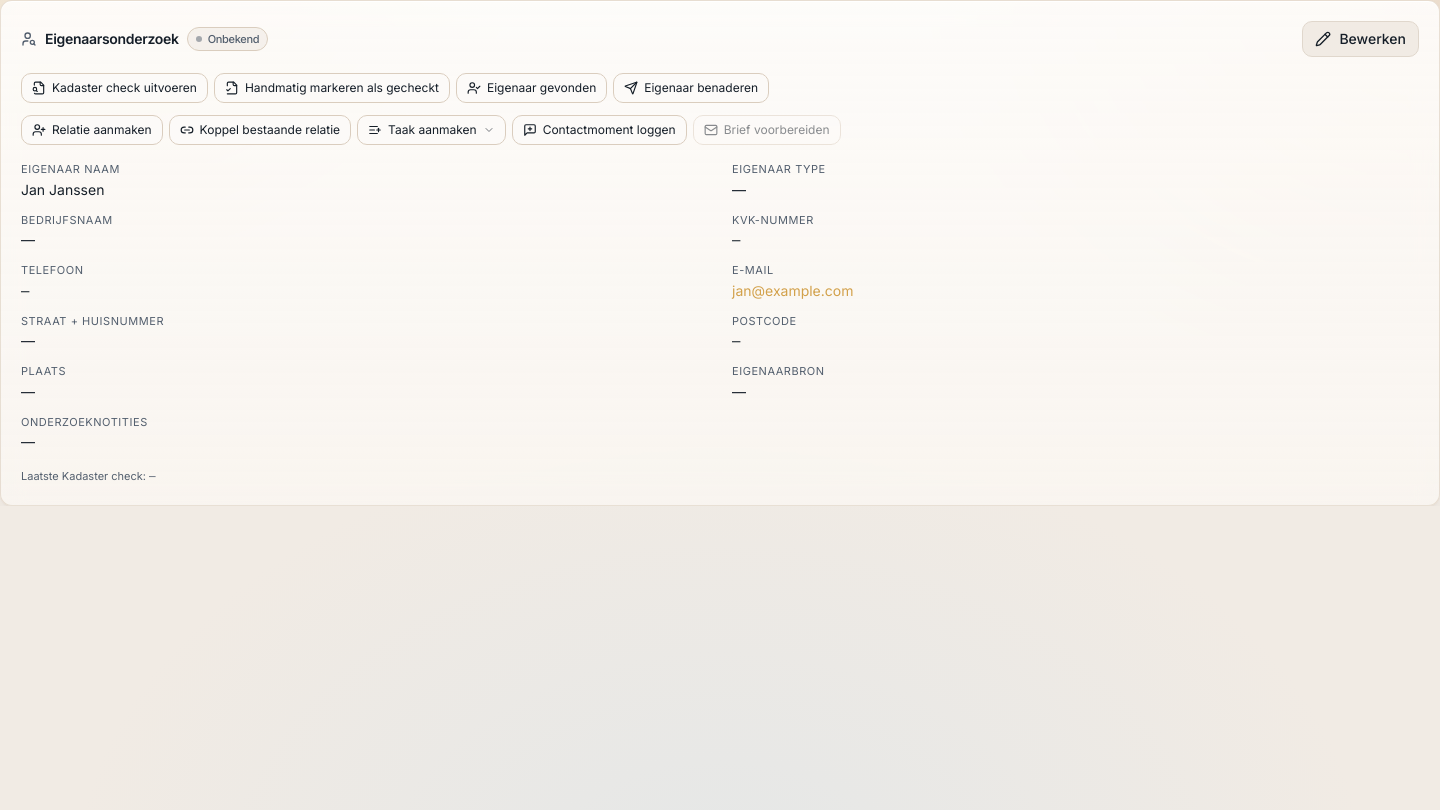
Test: SignaalEigenaarsonderzoekSectie — render & acties › bewerken → wijziging → opslaan stuurt patch
Click the button "Bewerken".
click(1361, 39)  # box [1302, 21, 1419, 57]
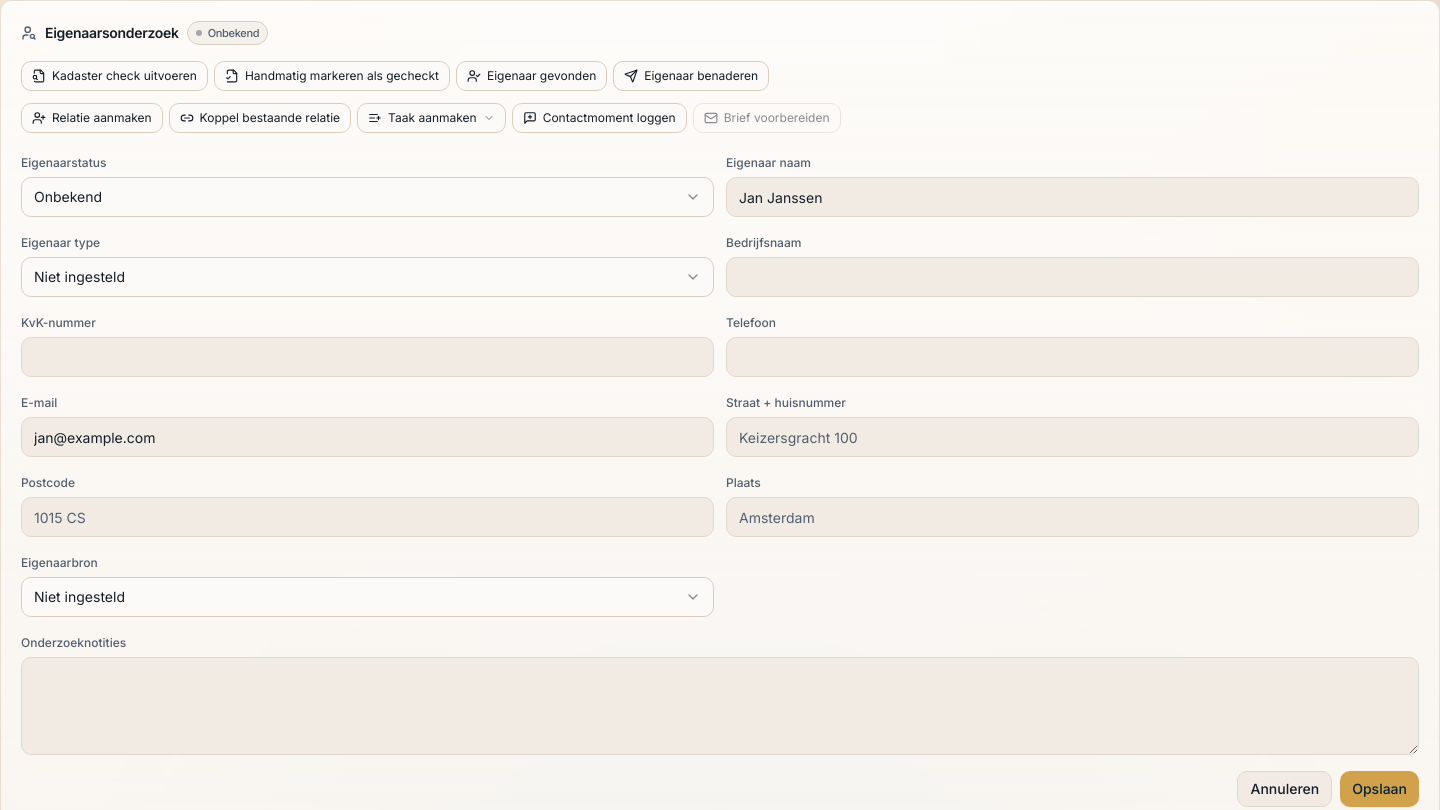
Type "0612345678" into the field below "Telefoon".
click(1072, 357); type("0612345678")  # box [726, 337, 1419, 377]
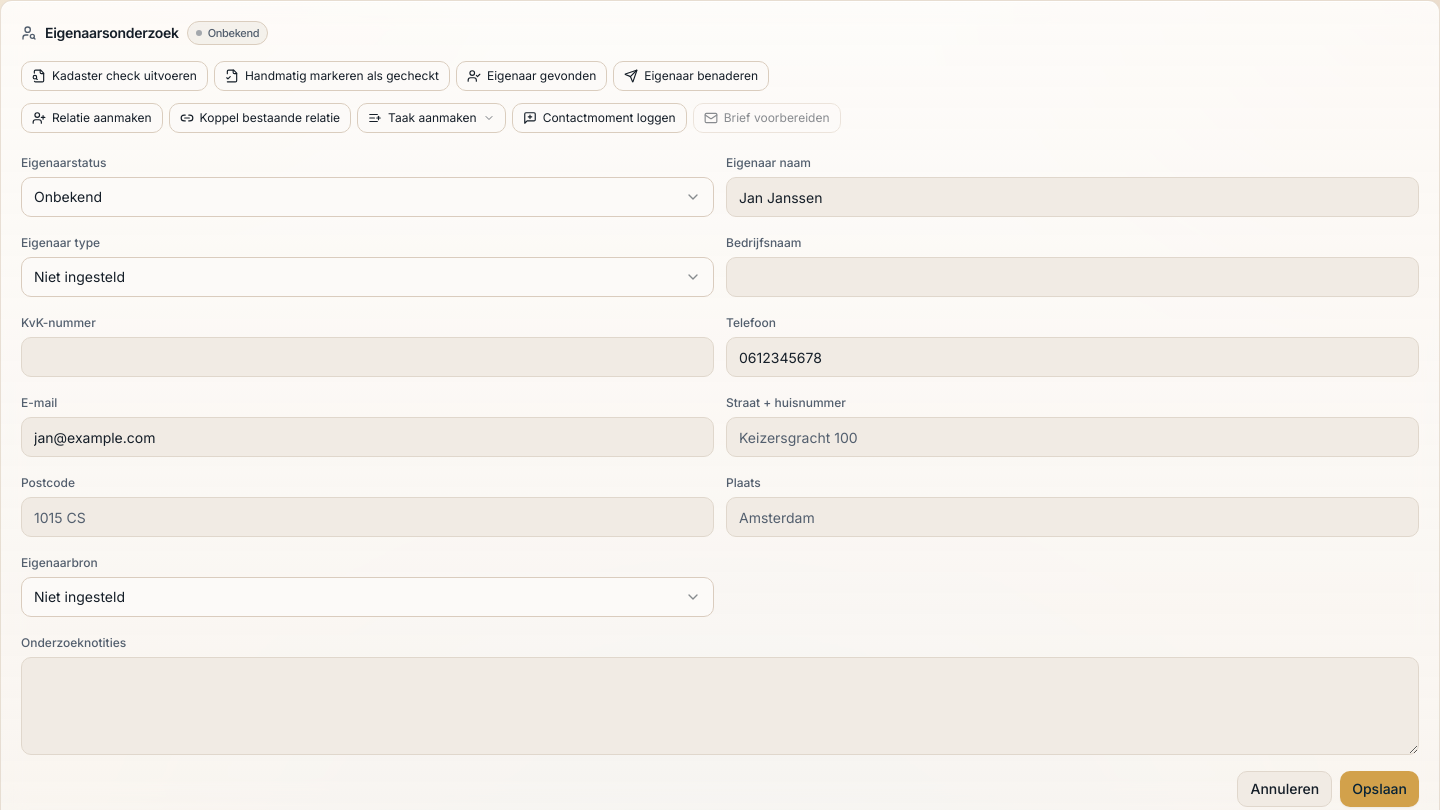
Click the button "Opslaan".
click(1380, 789)  # box [1340, 771, 1419, 807]
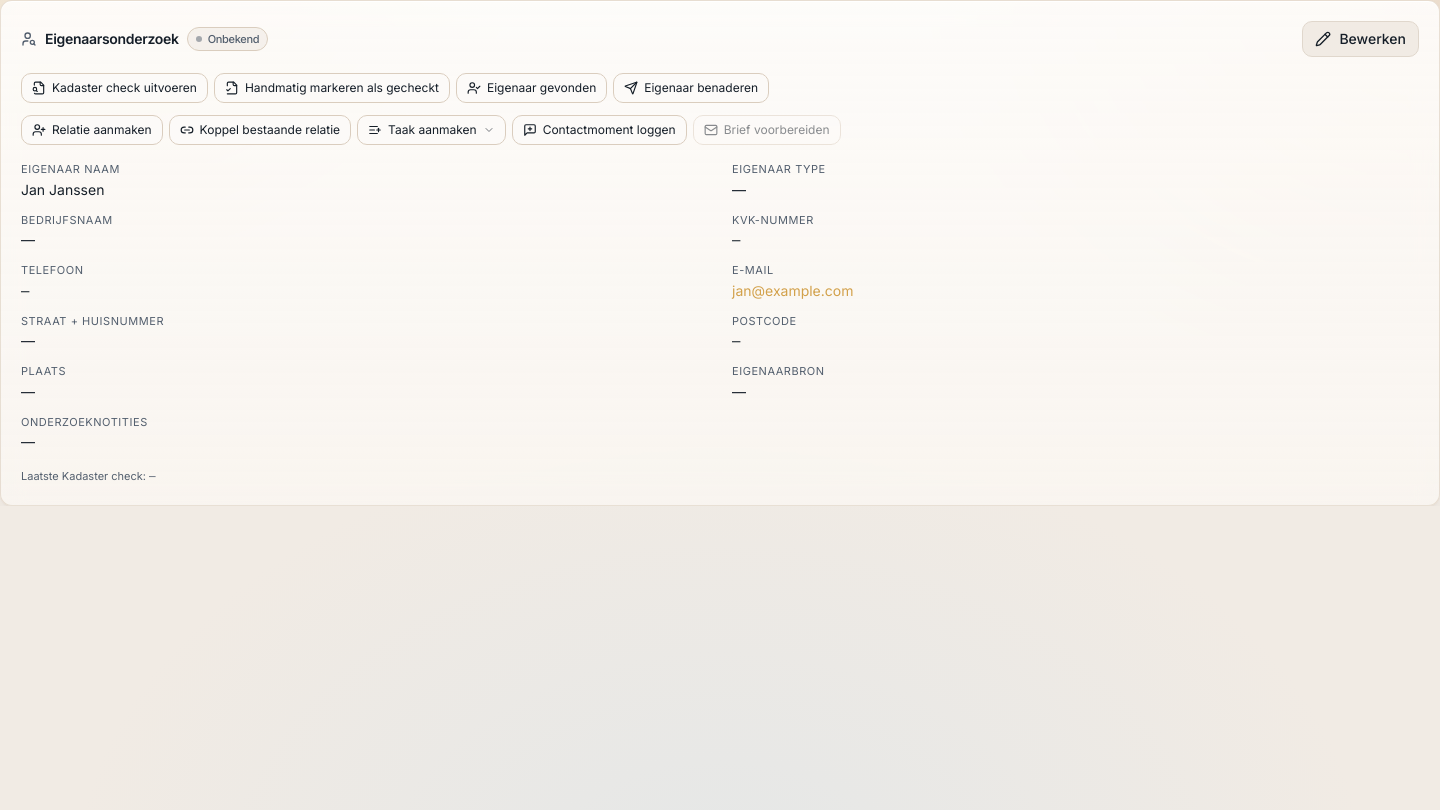
Check: the text "Jan Janssen" is shown, box [21, 180, 104, 198]
